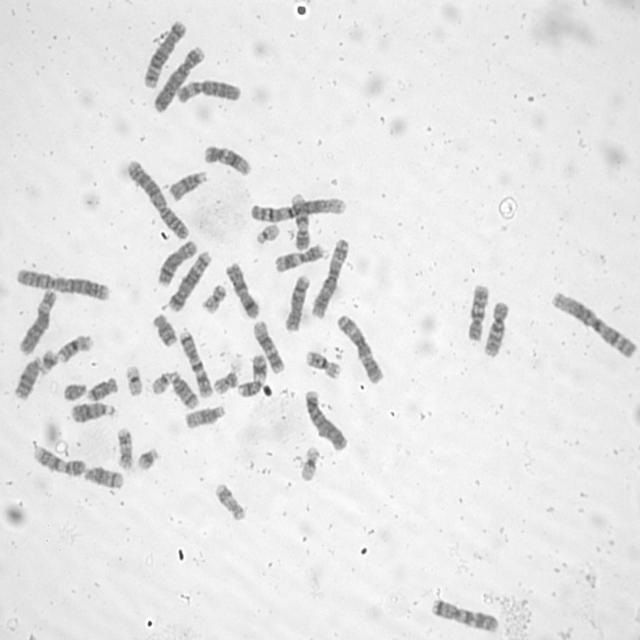A1: (548, 288, 639, 361), (247, 194, 348, 223)
A2: (123, 156, 190, 241), (12, 264, 112, 302)
A3: (334, 311, 385, 385), (309, 235, 351, 320)
B4: (152, 43, 206, 114), (303, 386, 349, 452)
B5: (141, 16, 188, 90), (167, 247, 213, 313)
C10: (480, 298, 510, 359), (464, 279, 490, 343)
C11: (272, 240, 329, 274), (235, 351, 268, 398)
C12: (251, 317, 286, 376), (202, 142, 254, 177)
C6: (16, 287, 58, 356), (174, 76, 243, 105)
C7: (429, 595, 500, 633), (177, 326, 213, 398)
C8: (155, 237, 199, 288), (282, 272, 312, 332)
C9: (31, 444, 86, 478), (288, 190, 312, 252)
D13: (11, 354, 42, 402), (68, 399, 117, 424)
D14: (167, 372, 202, 412), (82, 464, 125, 491)
D15: (166, 168, 208, 203), (182, 402, 226, 431)
E16: (304, 347, 342, 380), (56, 332, 94, 364)
E17: (212, 479, 246, 522), (114, 424, 134, 471)
E18: (84, 374, 120, 403), (150, 311, 178, 348)
F19: (298, 443, 321, 482), (123, 362, 145, 398)
F20: (200, 282, 228, 315), (211, 367, 240, 395)
G21: (136, 446, 160, 471), (38, 346, 58, 376)
G22: (254, 220, 282, 246), (150, 369, 170, 395)
X: (223, 259, 262, 322)
Y: (62, 379, 88, 402)
